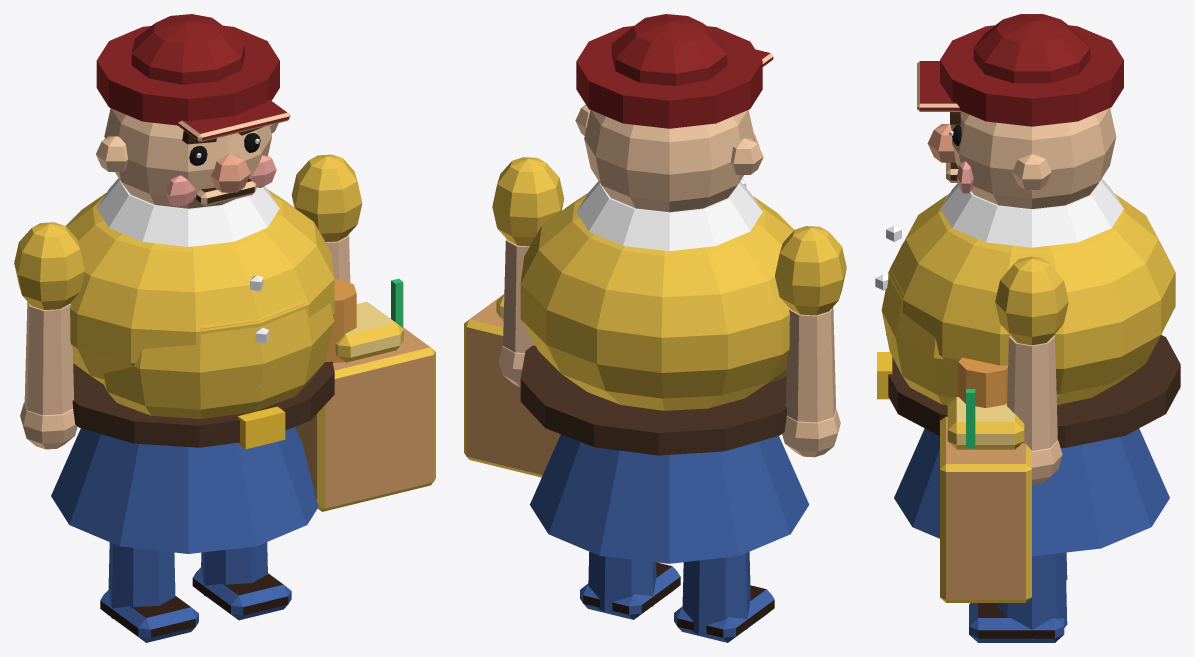
File: einkaeufer.glb
3 views of the same model, side by side, from view 1: azimuth 30°, elevation 25°; view 2: azimuth 150°, elevation 25°; view 3: azimuth 270°, elevation 25° (orthographic).
Visible parts, largest first — view 1: belly-m, body, head-m, arm-0-m, arm-1-m, leg-1-m, leg-0-m; view 2: body, belly-m, head-m, arm-0-m, arm-1-m, leg-1-m, leg-0-m; view 3: belly-m, body, head-m, arm-0-m, leg-0-m.
Boxes of the visible parts, x1,y1,x2,y2 form: belly-m: [66, 189, 334, 418]; body: [51, 178, 334, 553]; head-m: [96, 14, 290, 208]; arm-0-m: [291, 154, 435, 511]; arm-1-m: [14, 222, 84, 449]; leg-1-m: [100, 542, 198, 642]; leg-0-m: [192, 542, 291, 620]; body: [520, 181, 809, 563]; belly-m: [520, 178, 793, 410]; head-m: [575, 14, 773, 212]; arm-0-m: [464, 157, 564, 477]; arm-1-m: [775, 226, 846, 457]; leg-1-m: [674, 552, 774, 642]; leg-0-m: [580, 551, 680, 619]; belly-m: [875, 194, 1175, 405]; body: [877, 178, 1180, 556]; head-m: [917, 14, 1123, 208]; arm-0-m: [940, 256, 1068, 602]; leg-0-m: [969, 552, 1067, 642].
Bounding box in the file's own units: 2.84 × 4.23 × 1.99.
